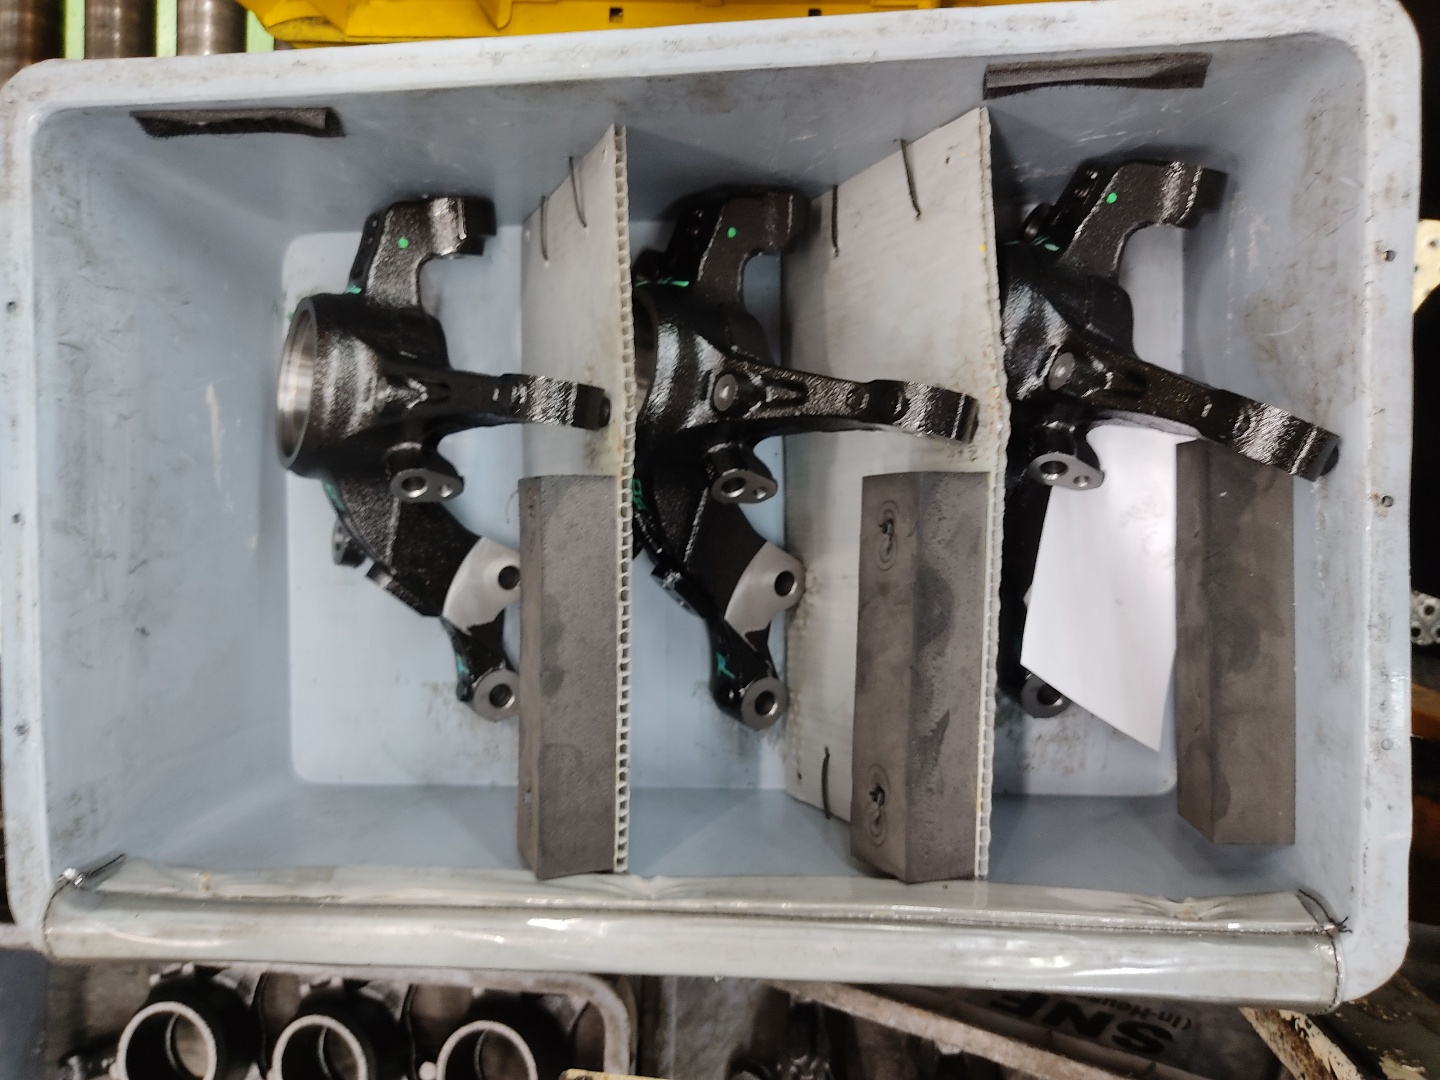abs-rh: (996, 145, 1349, 723), (625, 170, 975, 734), (262, 182, 619, 728)
